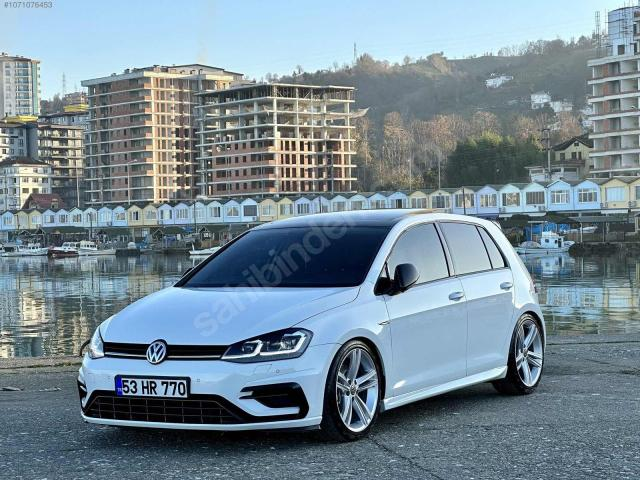plaka: (116, 375, 190, 398)
